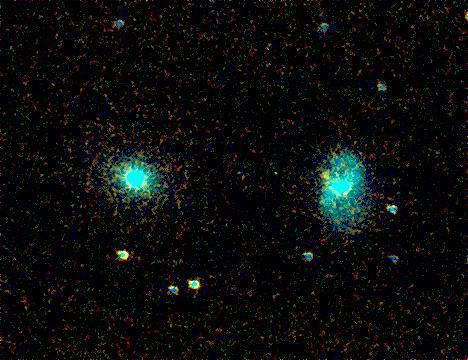star: (310, 159, 340, 189)
